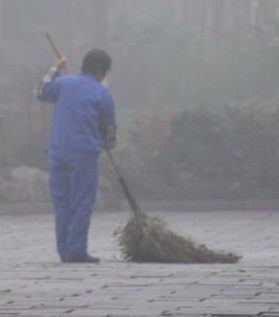person: (31, 46, 122, 264)
